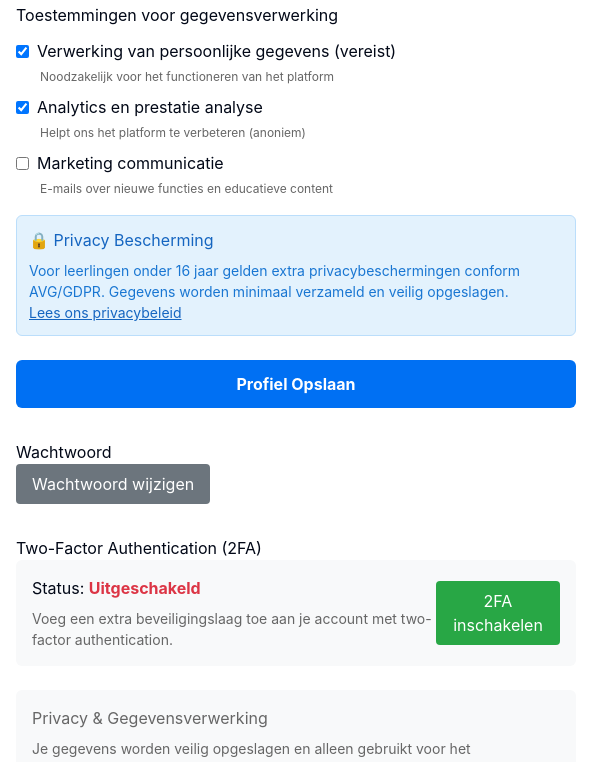
UserProfile › toont foutbericht bij mislukte update
(page scrolled)
Click the button "Profiel Opslaan" at (296, 384), box [16,360,576,408]
(page scrolled)
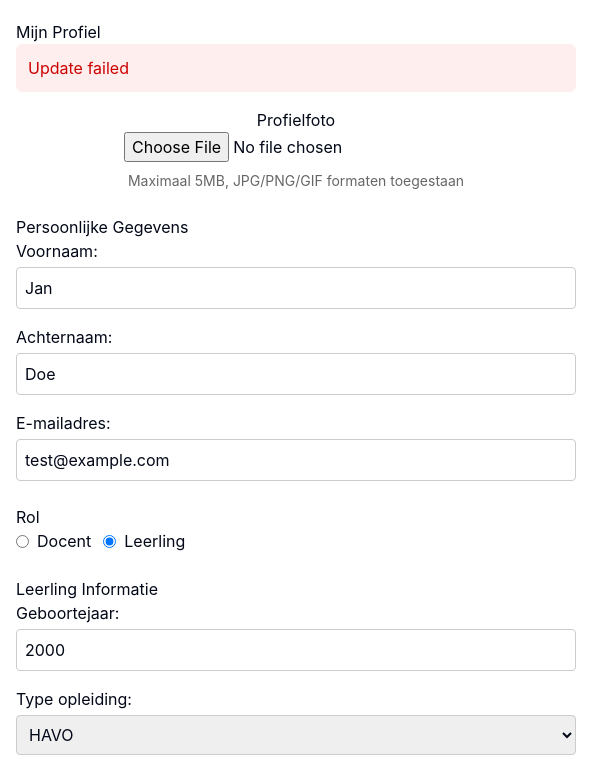
Now the text "Update failed" is shown, box [16,44,576,92]
